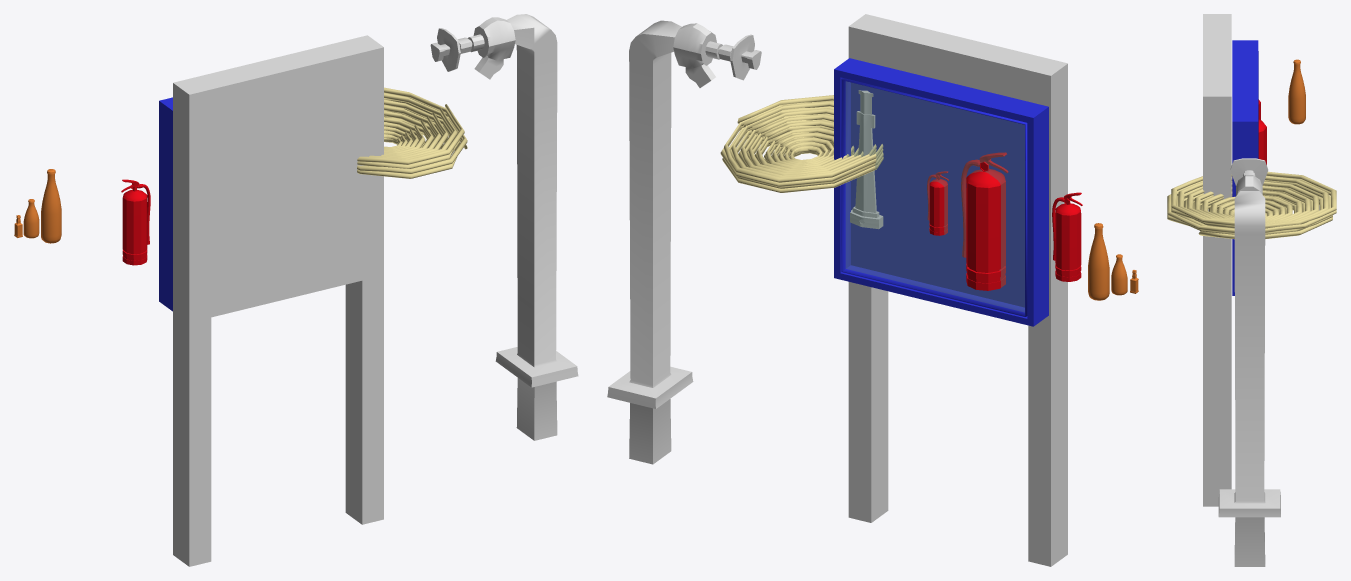
Rendered from mas deco subte.fbx.
The picture shows the model from 3 angles, left to right: view 1: azimuth 30°, elevation 25°; view 2: azimuth 150°, elevation 25°; view 3: azimuth 270°, elevation 25°; orthographic projection. The views are drawn at different scales.
Visible parts, largest first — view 1: Cube, Cylinder.001, manguera, caja de manguera, mata fuego mediano, botella de agua; view 2: caja de manguera, Cube, caja de manguera vidrioç, Cylinder.001, manguera, mata fuego grande, mata fuego mediano, Cylinder, botella de agua, mata fuego chico; view 3: Cylinder.001, Cube, manguera, caja de manguera, botella de agua, mata fuego grande.
Boxes of the visible parts, <box> form: Cube: <box>173,35,383,566</box>; Cylinder.001: <box>430,14,578,440</box>; manguera: <box>357,87,467,178</box>; caja de manguera: <box>159,97,172,311</box>; mata fuego mediano: <box>121,179,150,265</box>; botella de agua: <box>41,169,61,243</box>; caja de manguera: <box>834,58,1048,326</box>; Cube: <box>848,14,1067,566</box>; caja de manguera vidrioç: <box>846,81,1024,312</box>; Cylinder.001: <box>607,20,761,464</box>; manguera: <box>720,95,883,192</box>; mata fuego grande: <box>961,152,1008,290</box>; mata fuego mediano: <box>1052,192,1082,281</box>; Cylinder: <box>850,90,883,228</box>; botella de agua: <box>1088,223,1109,300</box>; mata fuego chico: <box>927,171,948,235</box>; Cylinder.001: <box>1218,158,1280,566</box>; Cube: <box>1203,14,1231,506</box>; manguera: <box>1167,171,1336,239</box>; caja de manguera: <box>1232,40,1258,295</box>; botella de agua: <box>1288,59,1305,124</box>; mata fuego grande: <box>1258,119,1266,164</box>.
Size of the model in its own units: 416 by 362 by 136.
